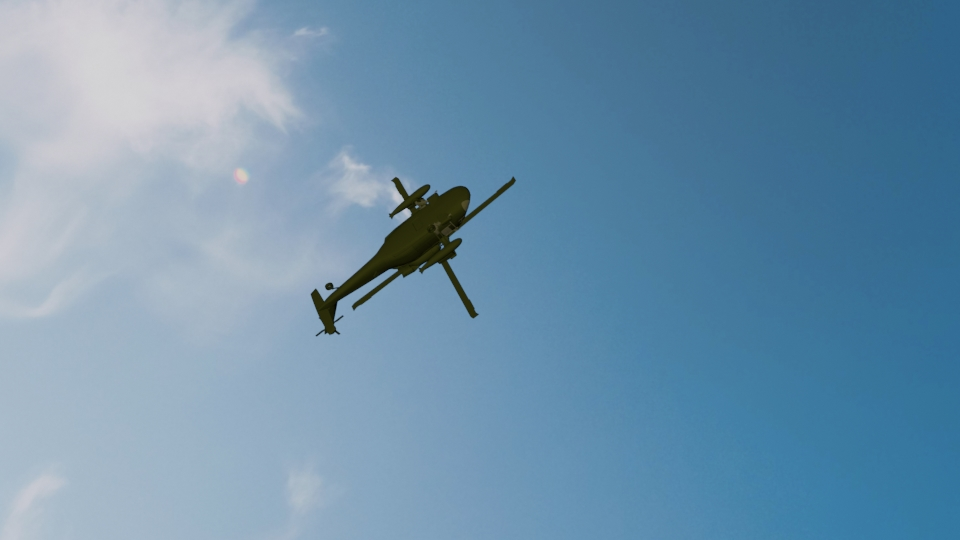heli: (308, 169, 517, 338)
